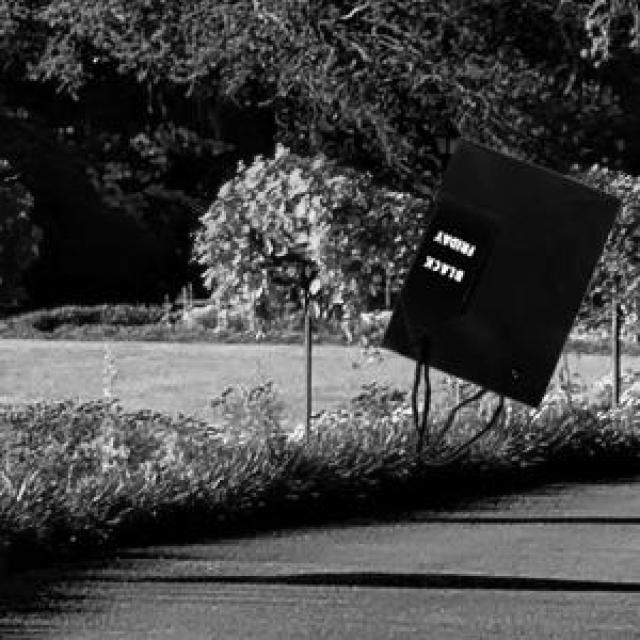paper: (376, 132, 619, 461)
